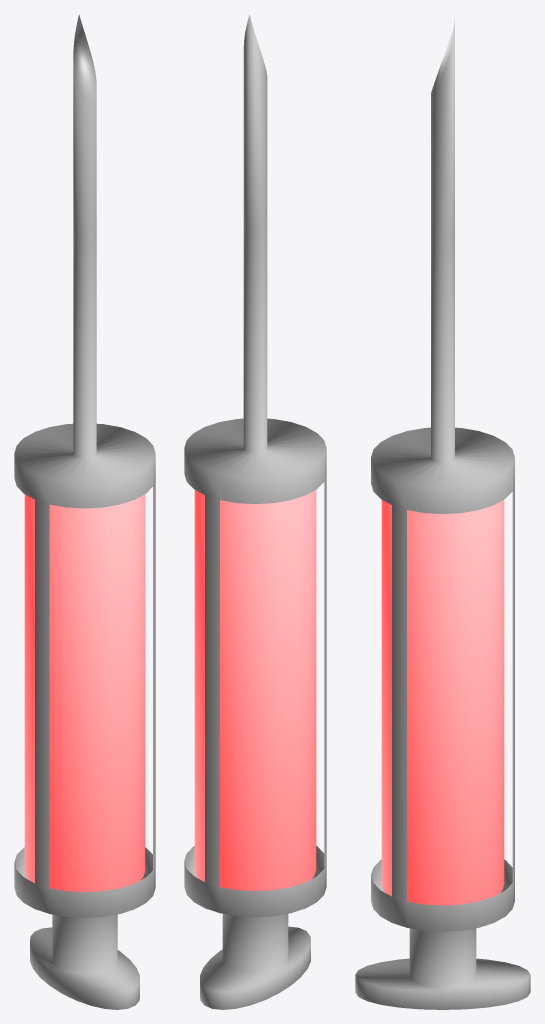
The model's file is seringa_01.fbx.
The picture shows the model from 3 angles, left to right: view 1: azimuth 30°, elevation 25°; view 2: azimuth 150°, elevation 25°; view 3: azimuth 270°, elevation 25°; orthographic projection. The views are drawn at different scales.
Visible parts, largest first — view 1: Liquido, Seringa; view 2: Liquido, Seringa; view 3: Liquido, Seringa.
Part boxes in pixels (box(x1,y1,x2,y2)): Liquido: box(24, 494, 145, 892); Seringa: box(14, 14, 155, 1009); Liquido: box(194, 490, 316, 891); Seringa: box(184, 14, 326, 1009); Liquido: box(381, 500, 504, 905); Seringa: box(355, 18, 530, 1009).
Size of the model in its own units: 62.96 by 472 by 76.57.
